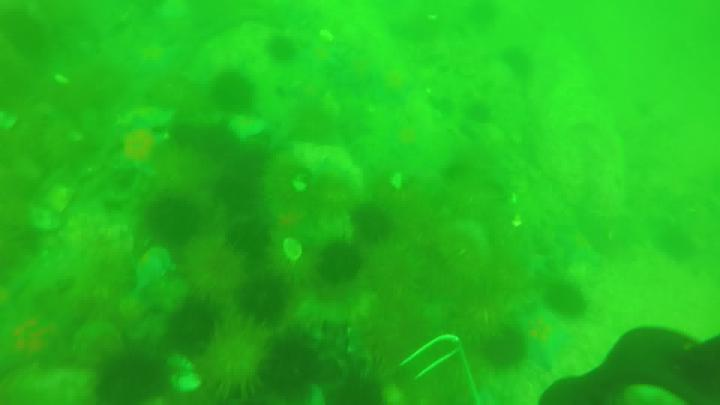holothurian: (4, 304, 68, 363), (113, 117, 169, 174)
scallop: (171, 359, 203, 393), (26, 204, 63, 231), (283, 238, 305, 265), (293, 172, 316, 194), (385, 174, 406, 193), (319, 29, 338, 45), (54, 74, 72, 86)
starfish: (219, 151, 282, 218), (139, 196, 204, 258), (262, 326, 320, 391), (93, 358, 173, 405), (237, 279, 296, 340), (170, 113, 237, 159), (172, 293, 218, 355), (319, 245, 371, 290), (227, 216, 274, 259), (539, 281, 590, 319), (485, 327, 530, 369), (348, 207, 399, 241), (211, 77, 257, 114), (659, 233, 701, 264), (259, 35, 303, 55), (504, 42, 527, 76)
